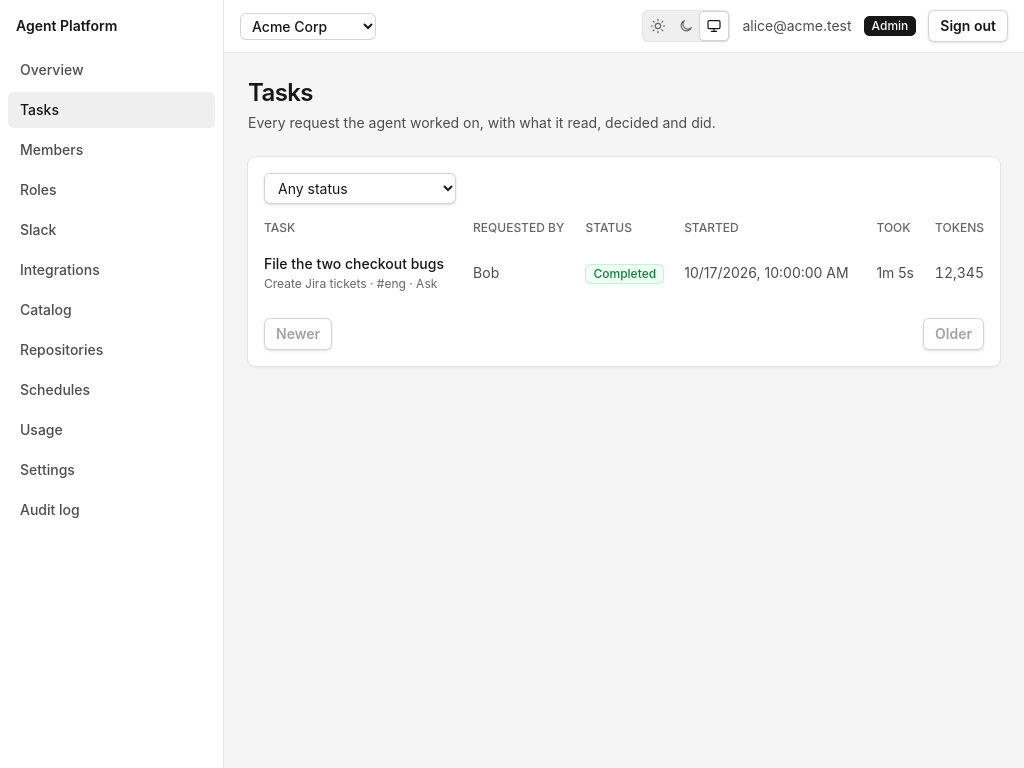
Test: Tasks page › lists tasks with status, requester and tokens, and filters by status
Expected: the text "Create Jira tickets · #eng · Ask" is shown, x1=264 y1=276 x2=461 y2=292
Expected: the text "Bob" is shown, x1=473 y1=244 x2=586 y2=302
Select "Failed" in the dropdown named "Filter by status" at (360, 188), box x1=264 y1=173 x2=456 y2=204
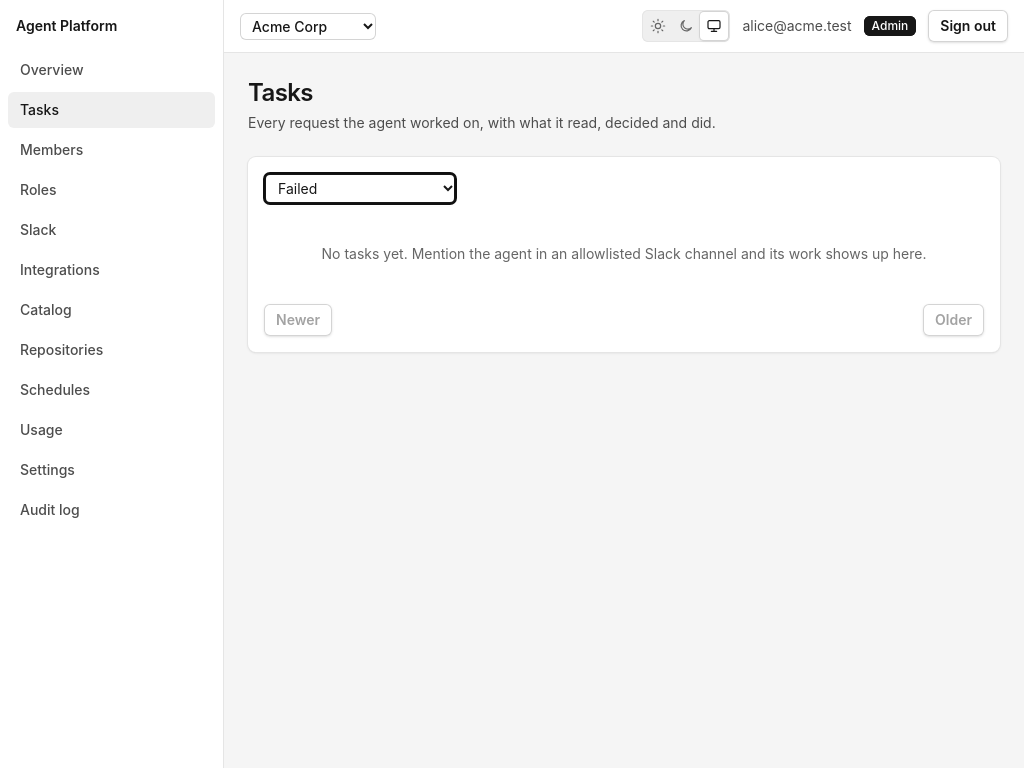
Now the text "No tasks yet" is shown, box x1=322 y1=245 x2=926 y2=262
